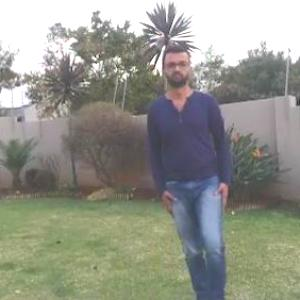follow: (146, 24, 237, 299)
